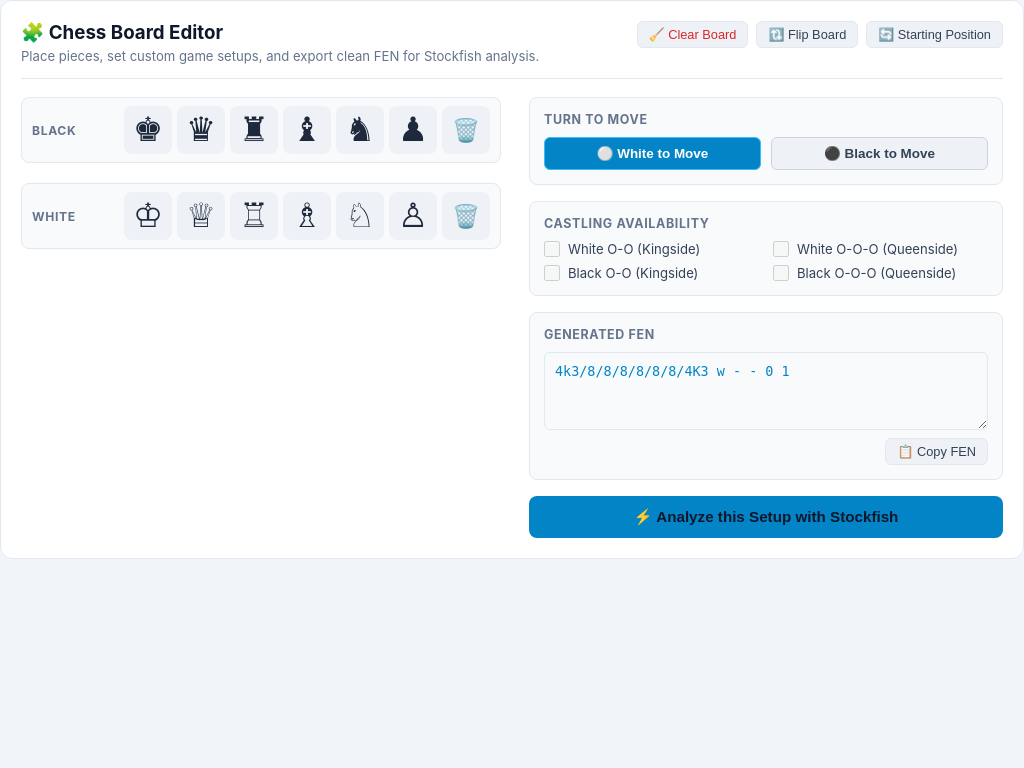
Test: BoardEditor turn and castling › switches the side to move
Click the button "⚫ Black to Move": (880, 154) [771,137,988,170]
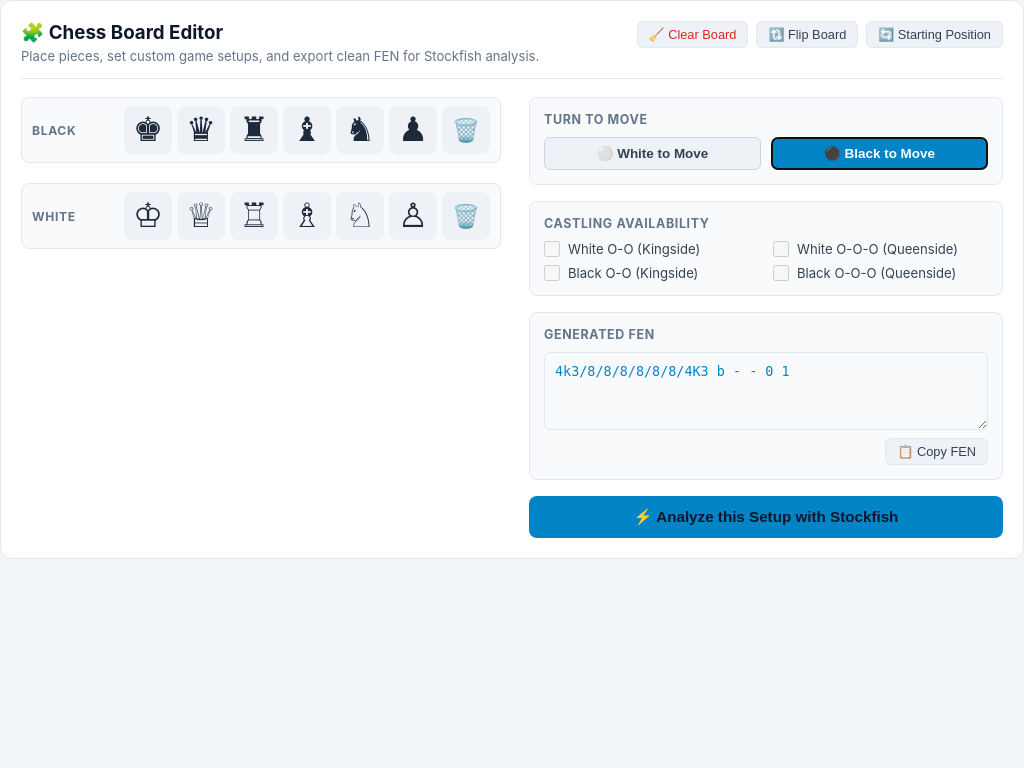
Result: the text box holds "4k3/8/8/8/8/8/8/4K3 b - - 0 1" at [544,352,988,430]
Click the button "⚪ White to Move": (652, 154) [544,137,761,170]
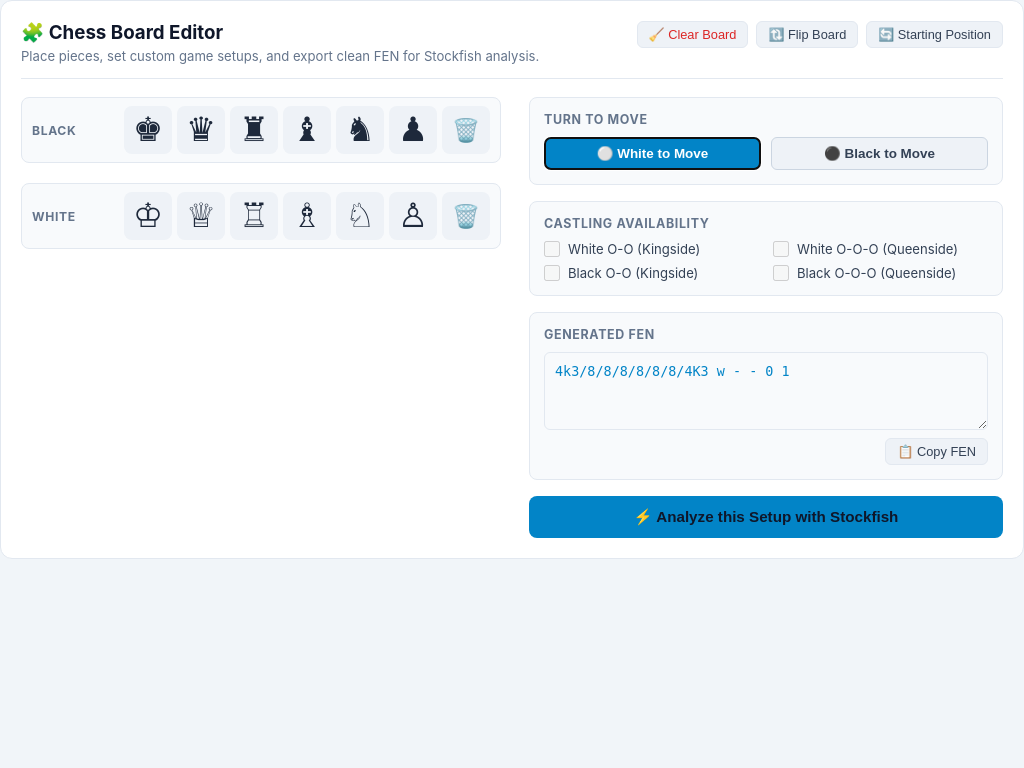
Result: the text box holds "4k3/8/8/8/8/8/8/4K3 w - - 0 1" at [544,352,988,430]
